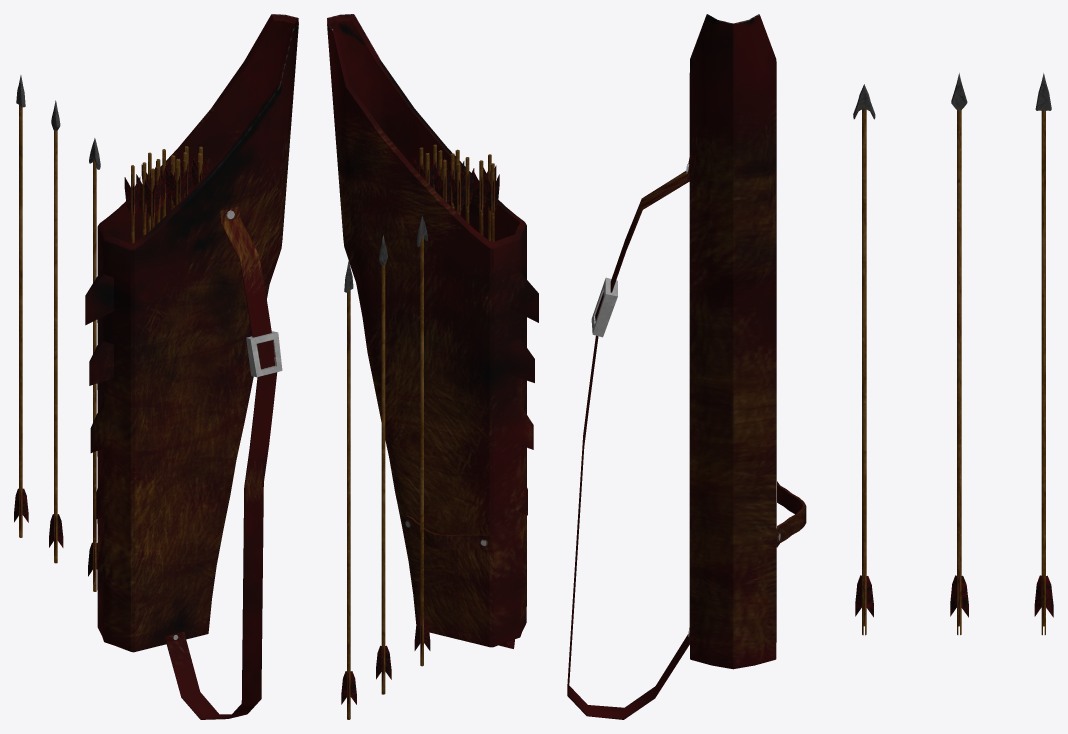
The model's file is quiver.glb.
The picture shows the model from 3 angles, left to right: view 1: azimuth 30°, elevation 25°; view 2: azimuth 150°, elevation 25°; view 3: azimuth 270°, elevation 25°; orthographic projection. The views are drawn at different scales.
Parts seen in each view (by area): view 1: Box014, Box013, Box009, Box001, Box015, Box018, Box023; view 2: Box014, Box009, Box001, Box013, Box015, Box016, Box017, Box019, Box020; view 3: Box014, Box013, Box001, Box009.
Part boxes in pixels (box(x1,y1,x2,y2)): Box014: box(85, 14, 298, 719); Box013: box(14, 75, 28, 537); Box009: box(49, 100, 63, 563); Box001: box(88, 138, 100, 591); Box015: box(124, 165, 140, 243); Box018: box(144, 168, 160, 229); Box023: box(170, 159, 185, 206); Box014: box(327, 14, 538, 648); Box009: box(376, 235, 391, 694); Box001: box(414, 215, 430, 666); Box013: box(341, 260, 356, 719); Box015: box(485, 163, 499, 241); Box016: box(473, 160, 487, 235); Box017: box(460, 157, 474, 223); Box019: box(451, 163, 465, 215); Box020: box(437, 159, 451, 203); Box014: box(567, 14, 806, 719); Box013: box(1034, 73, 1053, 635); Box001: box(853, 84, 875, 635); Box009: box(950, 73, 968, 635).
Bounding box in the file's own units: 0.7044 × 2 × 1.14.
1 material, 1 textured.
